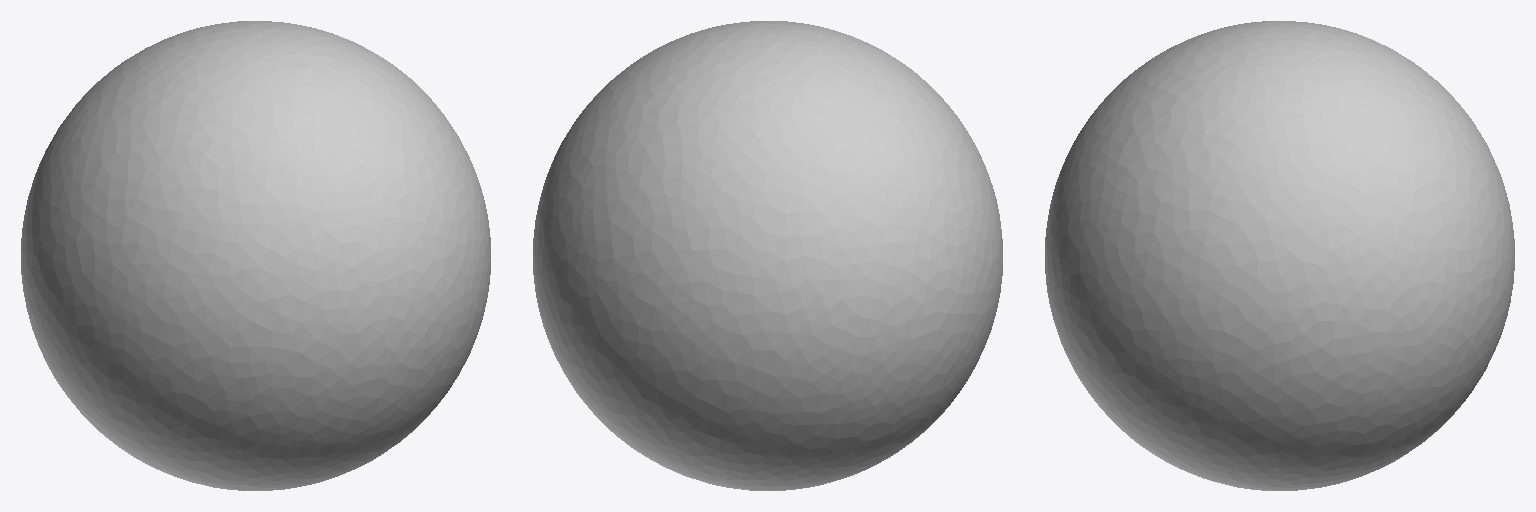
The model's file is InvertedSphere.obj.
The picture shows the model from 3 angles: view 1: azimuth 30°, elevation 25°; view 2: azimuth 150°, elevation 25°; view 3: azimuth 270°, elevation 25°; orthographic projection.
Parts seen in each view (by area): view 1: mmGroup0; view 2: mmGroup0; view 3: mmGroup0.
Part boxes in pixels (x1,y1,x2,y2): mmGroup0: (21, 21, 490, 490); mmGroup0: (533, 21, 1002, 490); mmGroup0: (1045, 21, 1514, 490).
Size of the model in its own units: 12 by 12 by 12.